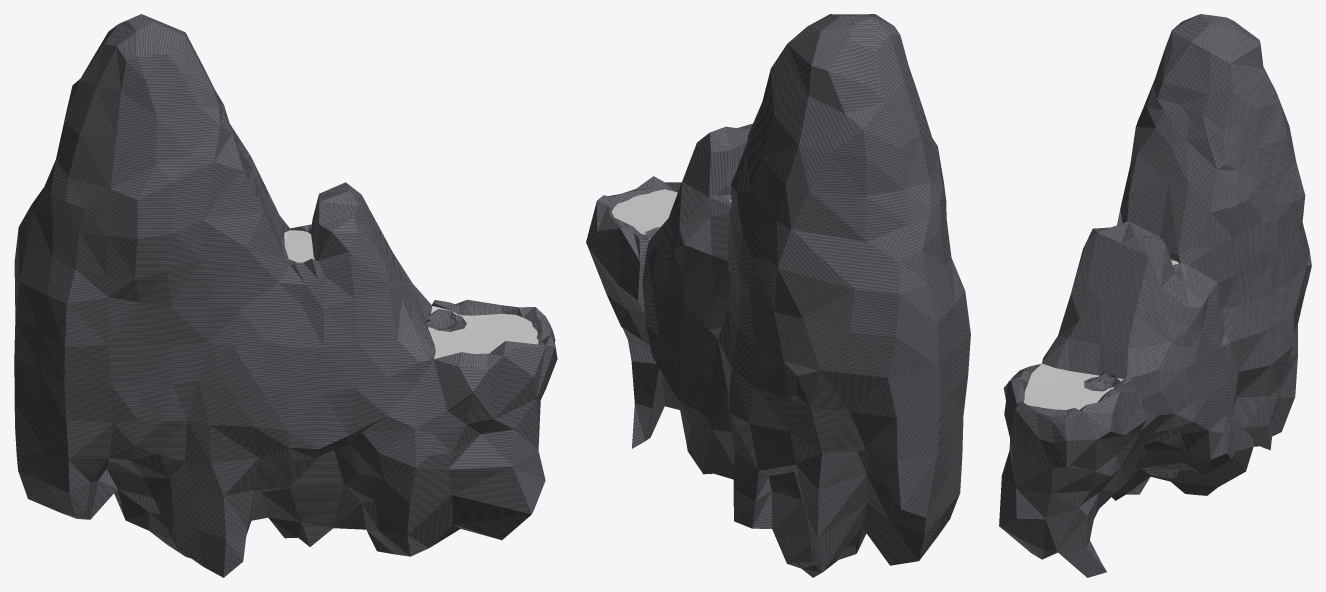
Rendered from Level2Area3Ground.fbx.
3 views of the same model, side by side, from view 1: azimuth 30°, elevation 25°; view 2: azimuth 150°, elevation 25°; view 3: azimuth 270°, elevation 25° (orthographic). The views are drawn at different scales.
Parts seen in each view (by area): view 1: Landscape.037; view 2: Landscape.037; view 3: Landscape.037.
Part boxes in pixels (bbox=[...]): Landscape.037: bbox=[14, 14, 557, 577]; Landscape.037: bbox=[586, 14, 970, 577]; Landscape.037: bbox=[999, 14, 1311, 577].
Bounding box in the file's own units: 19235 × 22853 × 14066.
